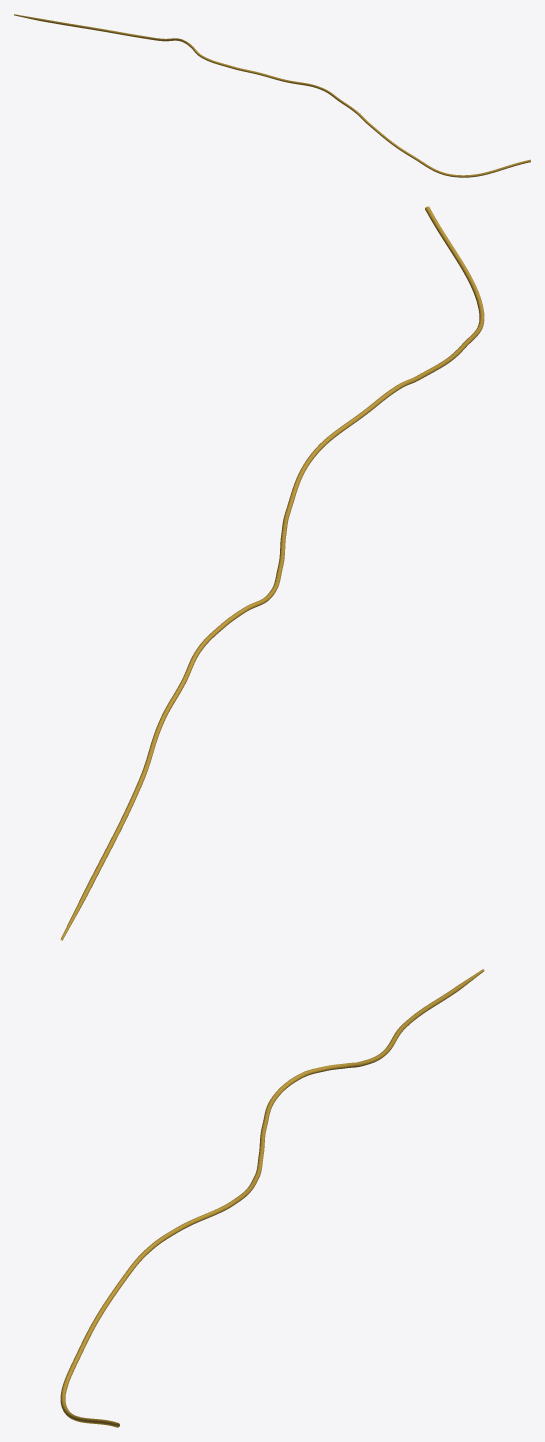
The picture shows the model from 3 angles, top to bottom: view 1: azimuth 30°, elevation 25°; view 2: azimuth 150°, elevation 25°; view 3: azimuth 330°, elevation 25°; orthographic projection. The views are drawn at different scales.
Parts seen in each view (by area): view 1: 右侧正中神经; view 2: 右侧正中神经; view 3: 右侧正中神经.
Boxes of the visible parts, <box> form: 右侧正中神经: <box>14,14,530,177</box>; 右侧正中神经: <box>60,206,484,940</box>; 右侧正中神经: <box>60,969,484,1427</box>.
Size of the model in its own units: 0.2262 by 0.091 by 0.8165.
